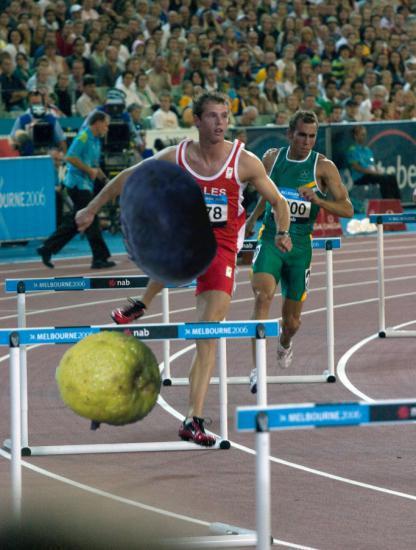Blueberry: (99, 158, 230, 289)
Limes: (55, 328, 162, 435)
